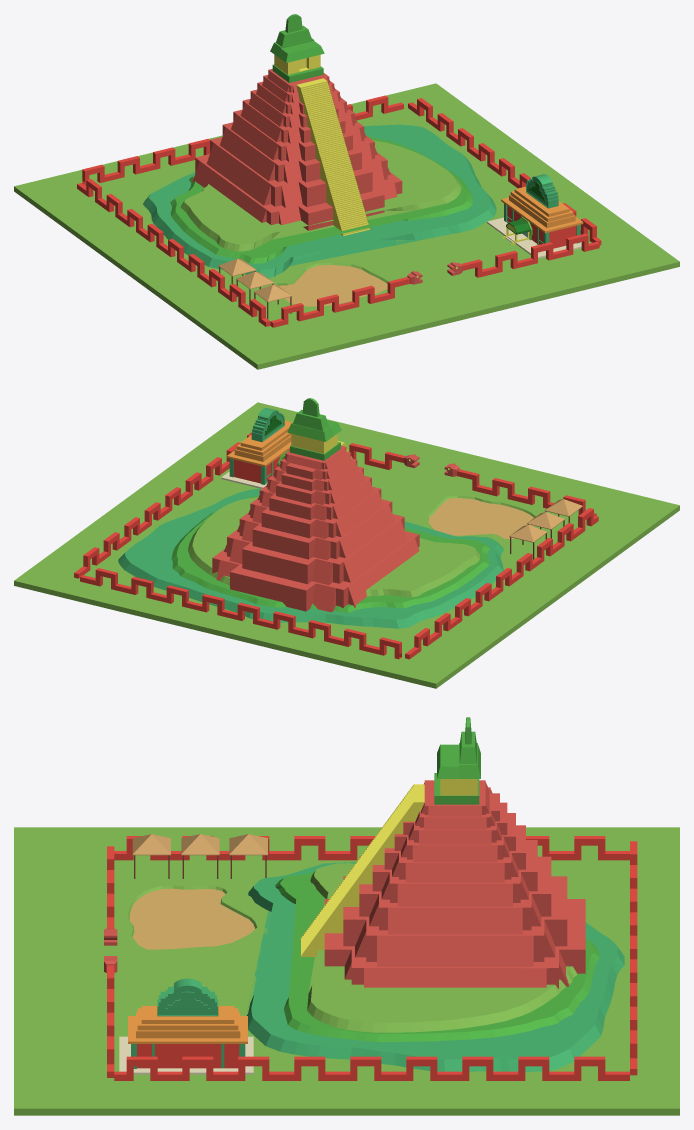
The model's file is Milestone_D6.fbx.
3 renders of one model, top to bottom at view 1: azimuth 30°, elevation 25°; view 2: azimuth 150°, elevation 25°; view 3: azimuth 270°, elevation 25°, orthographic. The views are drawn at different scales.
Parts seen in each view (by area): view 1: Plane.907, Cube, GP_Layer, GP_Layer.002, Plane.908, Cube.005, GP_Layer.001, Cube.001, Plane.909, Plane.919, Plane.912, Plane.911 (+4 smaller); view 2: Plane.907, Cube, GP_Layer, Cube.001, GP_Layer.002, GP_Layer.001, Plane.911, Cube.005, Plane.909, Plane.919, Plane.912, Plane.914 (+6 smaller); view 3: Plane.907, Cube, GP_Layer, GP_Layer.002, Cube.005, Cube.001, GP_Layer.001, Plane.912, Plane.919, Plane.908, Plane.909, Plane.911 (+7 smaller).
Part boxes in pixels (x1,y1,x2,y2): Plane.907: (14, 83, 679, 369); Cube: (192, 69, 402, 224); GP_Layer: (143, 124, 496, 278); GP_Layer.002: (181, 140, 461, 251); Plane.908: (296, 78, 370, 235); Cube.005: (487, 174, 583, 258); GP_Layer.001: (170, 136, 472, 263); Cube.001: (297, 97, 384, 230); Plane.909: (77, 179, 270, 326); Plane.919: (278, 265, 387, 306); Plane.912: (408, 98, 601, 245); Plane.911: (82, 95, 403, 185); Plane.907: (14, 402, 679, 688); Cube: (212, 445, 419, 612); GP_Layer: (118, 488, 503, 628); Cube.001: (230, 463, 316, 611); GP_Layer.002: (188, 497, 479, 597); GP_Layer.001: (171, 495, 490, 612); Plane.911: (80, 568, 401, 659); Cube.005: (221, 408, 292, 488); Plane.909: (405, 508, 598, 659); Plane.919: (428, 498, 534, 539); Plane.912: (74, 432, 251, 578); Plane.914: (444, 463, 596, 515); Plane.907: (14, 827, 679, 1115); Cube: (344, 780, 568, 988); GP_Layer: (246, 862, 624, 1071); GP_Layer.002: (307, 863, 577, 1032); Cube.005: (119, 978, 253, 1074); Cube.001: (324, 793, 585, 973); GP_Layer.001: (275, 871, 599, 1041); Plane.912: (114, 1056, 629, 1080); Plane.919: (129, 888, 254, 949); Plane.908: (300, 784, 424, 956); Plane.909: (114, 836, 629, 860); Plane.911: (630, 841, 637, 1075).
Size of the model in its own units: 13150 by 5473 by 13150.
Materials: 2 (2 with a texture image).
